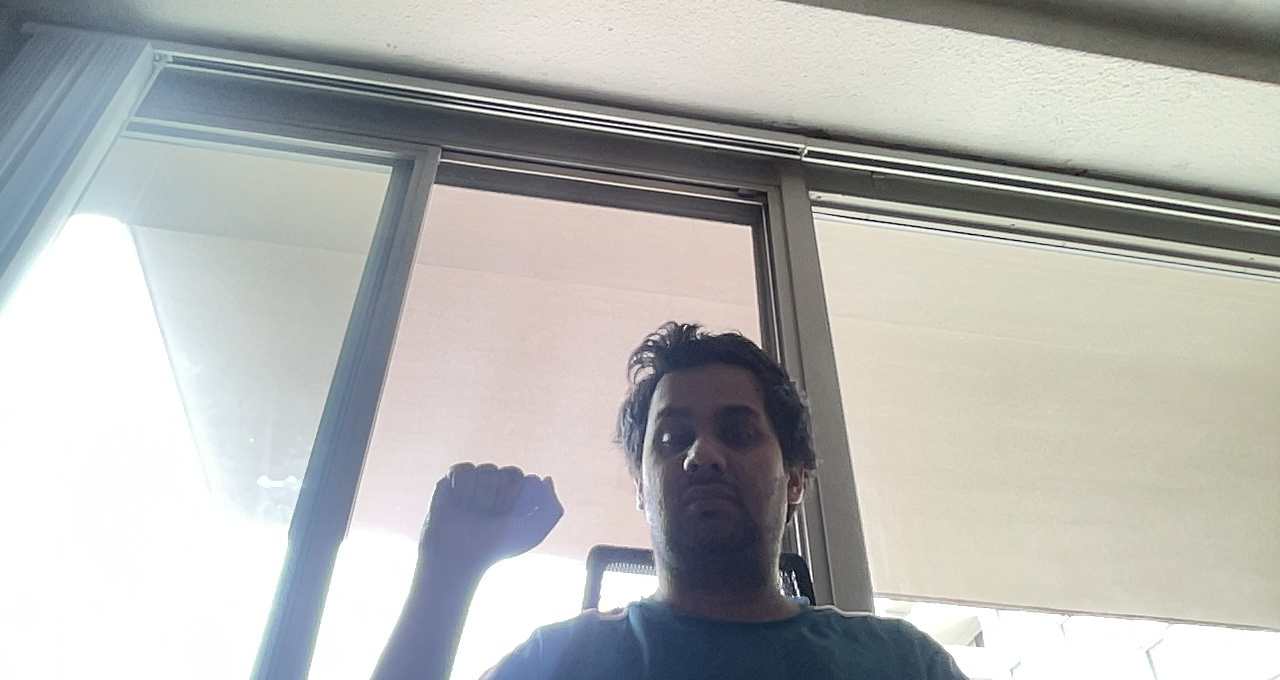closedfist: (414, 456, 569, 582)
